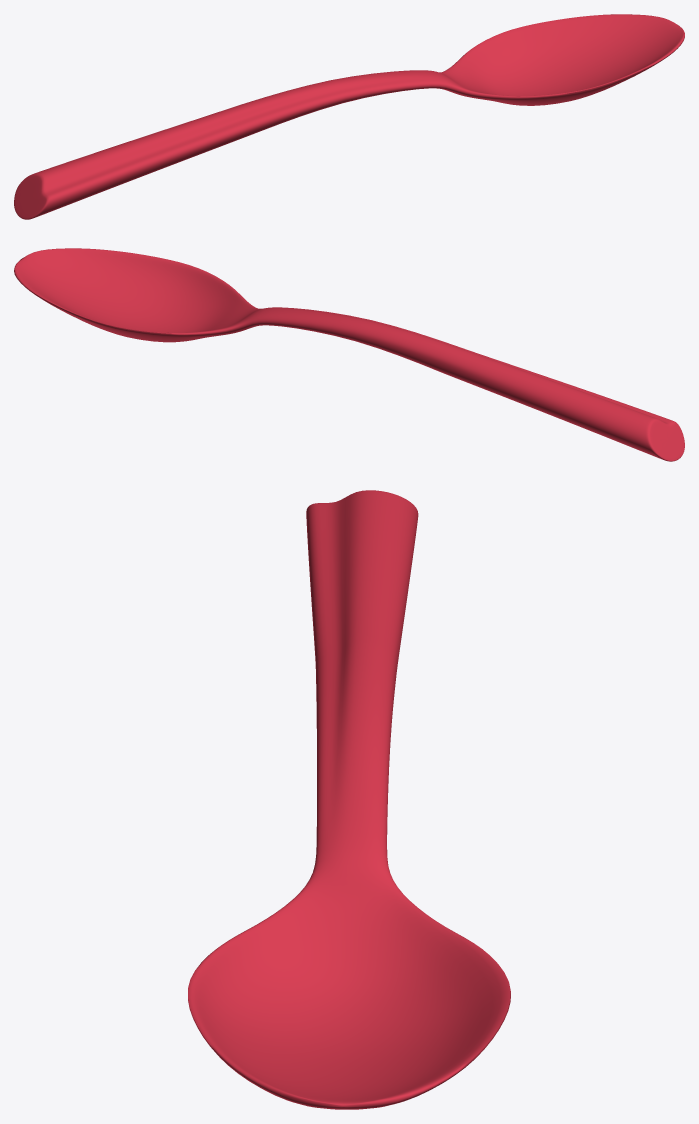
Rendered from RedPlasticSpoon.dae.
The picture shows the model from 3 angles, top to bottom: view 1: azimuth 30°, elevation 25°; view 2: azimuth 150°, elevation 25°; view 3: azimuth 270°, elevation 25°; orthographic projection. The views are drawn at different scales.
Visible parts, largest first — view 1: group_0; view 2: group_0; view 3: group_0.
Part boxes in pixels (x1,y1,x2,y2): group_0: [14, 14, 684, 219]; group_0: [14, 248, 684, 461]; group_0: [188, 490, 510, 1109].
Bounding box in the file's own units: 0.1536 × 0.0328 × 0.0134.
